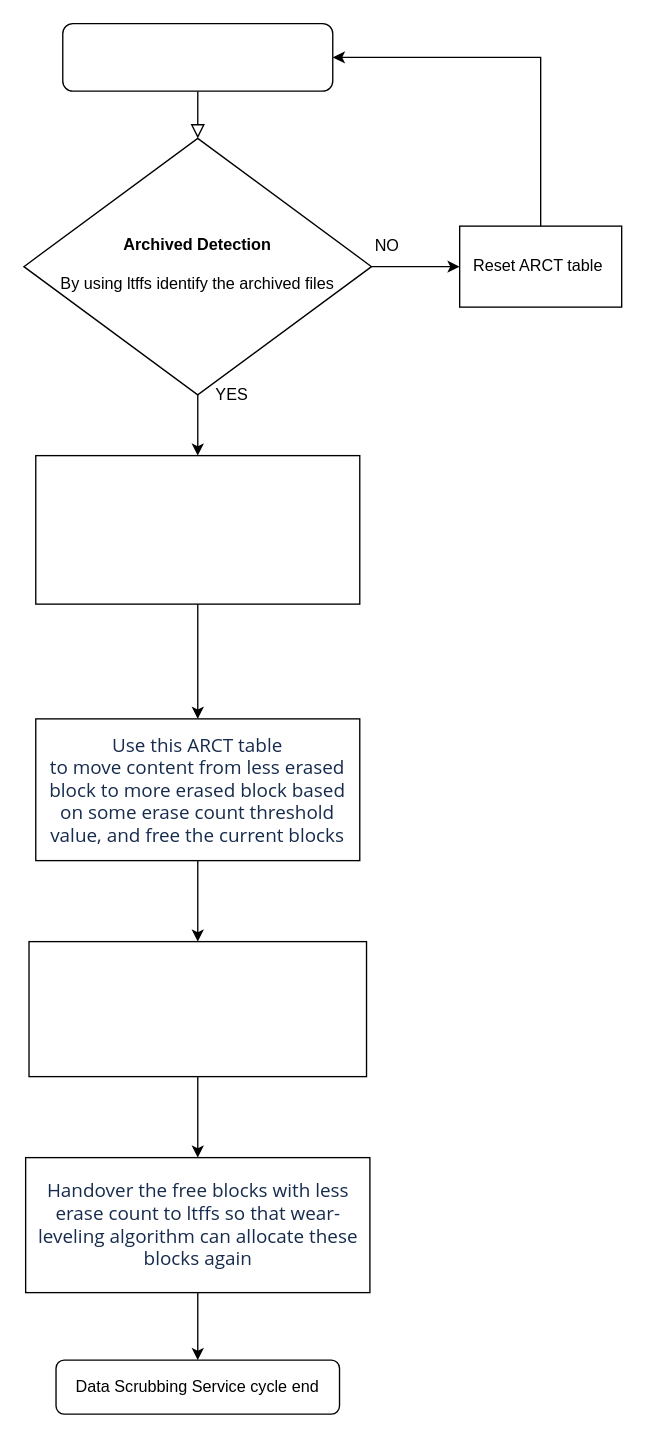
Some shapes in this 645 by 1438 pixel diagram are drawn without their labels. Here are the shapes that lost their labels. From the top down, the centre of each, then its label:
the point at 197,56: Data Scrubbing Service cycle start Running in a interval of time
the point at 197,529: Generate Archived Table (ARCT) and add the archived blocks
the point at 197,1008: Update the ltffs info for these new blocks
